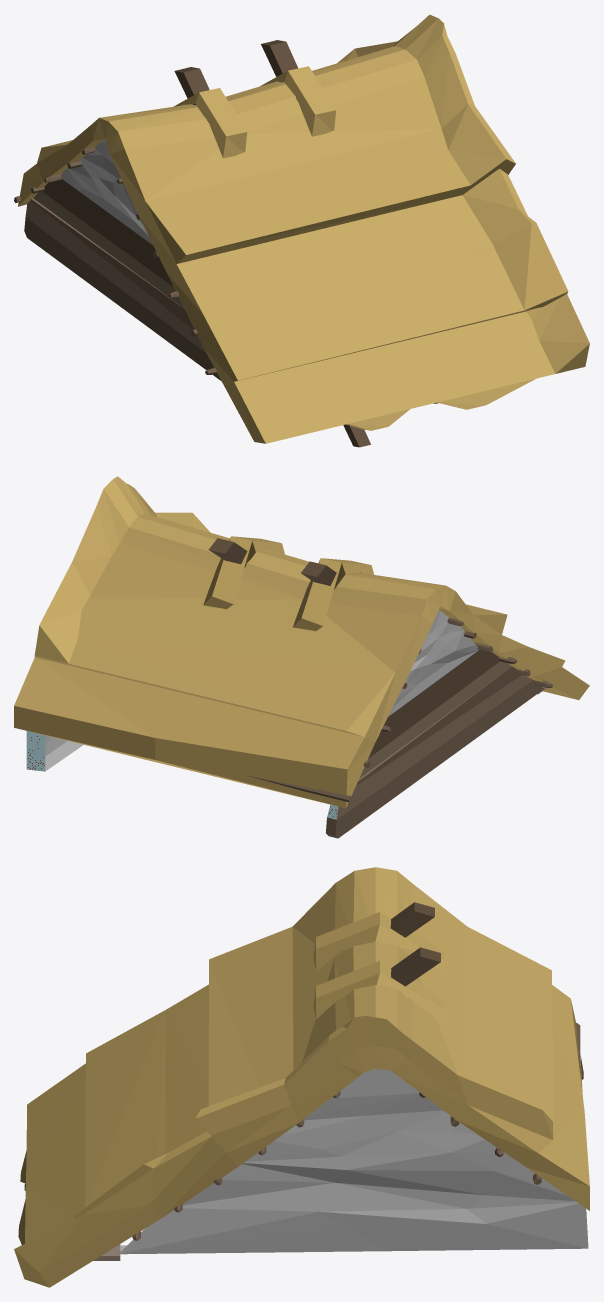
File: EA03_Village_Hut_Roof_Cut_01d.fbx
3 renders of one model, top to bottom at view 1: azimuth 30°, elevation 25°; view 2: azimuth 150°, elevation 25°; view 3: azimuth 270°, elevation 25°, orthographic. The views are drawn at different scales.
Parts seen in each view (by area): view 1: EA03_Village_Hut_Roof_Cut_01d_LOD0; view 2: EA03_Village_Hut_Roof_Cut_01d_LOD0; view 3: EA03_Village_Hut_Roof_Cut_01d_LOD0.
Boxes of the visible parts, x1=… form: EA03_Village_Hut_Roof_Cut_01d_LOD0: x1=14, y1=14, x2=589, y2=447; EA03_Village_Hut_Roof_Cut_01d_LOD0: x1=14, y1=476, x2=589, y2=838; EA03_Village_Hut_Roof_Cut_01d_LOD0: x1=14, y1=867, x2=589, y2=1287.
Size of what is drawn, in the model's own units: 6.95 by 5.22 by 9.11.
